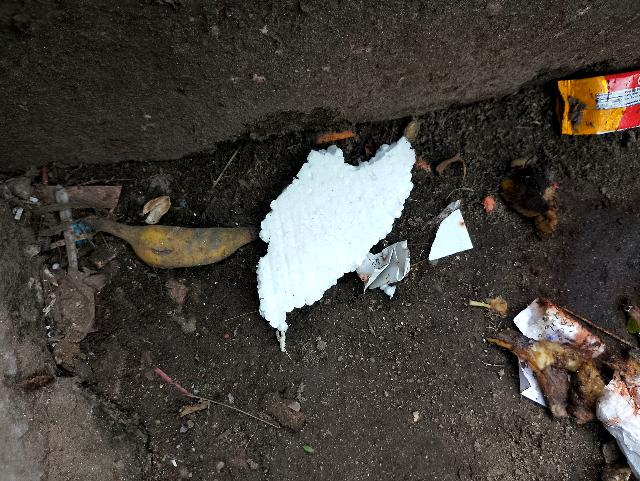cocksheet: (230, 86, 438, 343)
